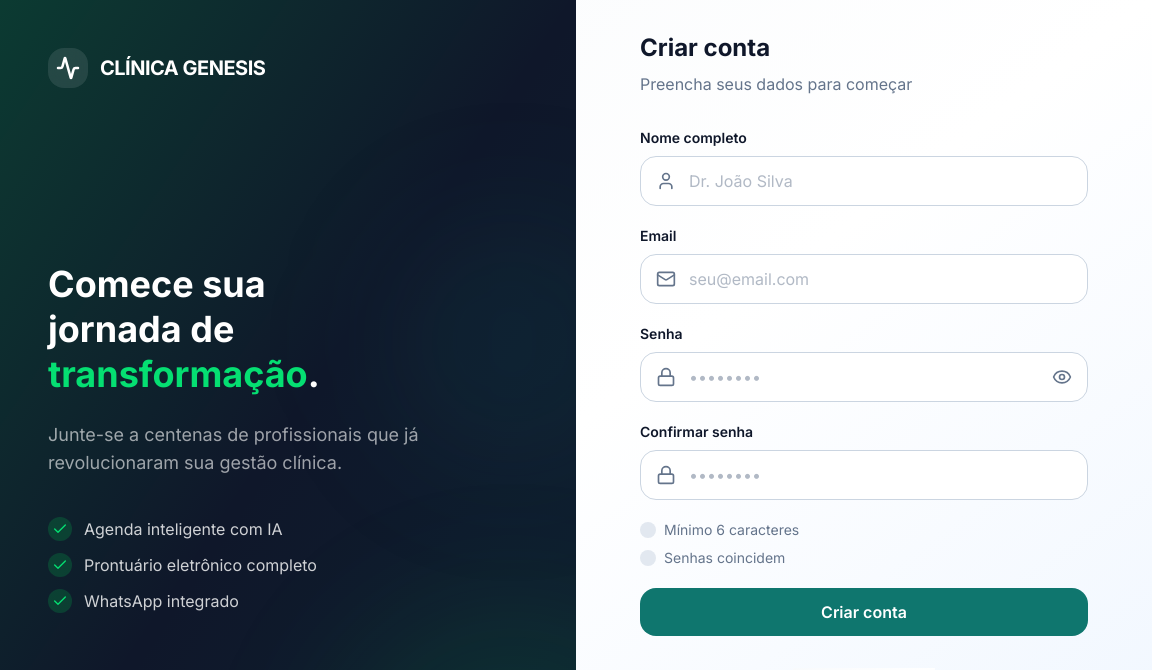
Test: Register › error handling › should display error on email already in use
The image size is (1152, 670).
Type "Test User" into the field labelled "Nome completo".
click(864, 181); type("Test User")  # box 640,156 -> 1088,206
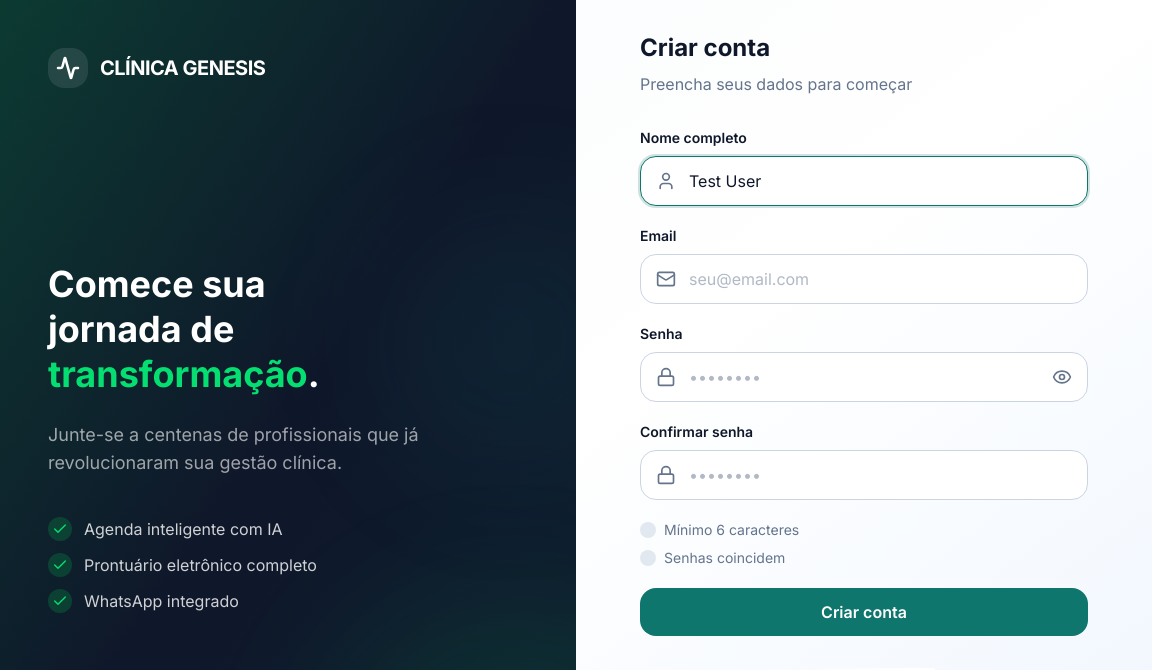
Type "existing@example.com" into the field labelled "Email".
click(864, 279); type("existing@example.com")  # box 640,254 -> 1088,304
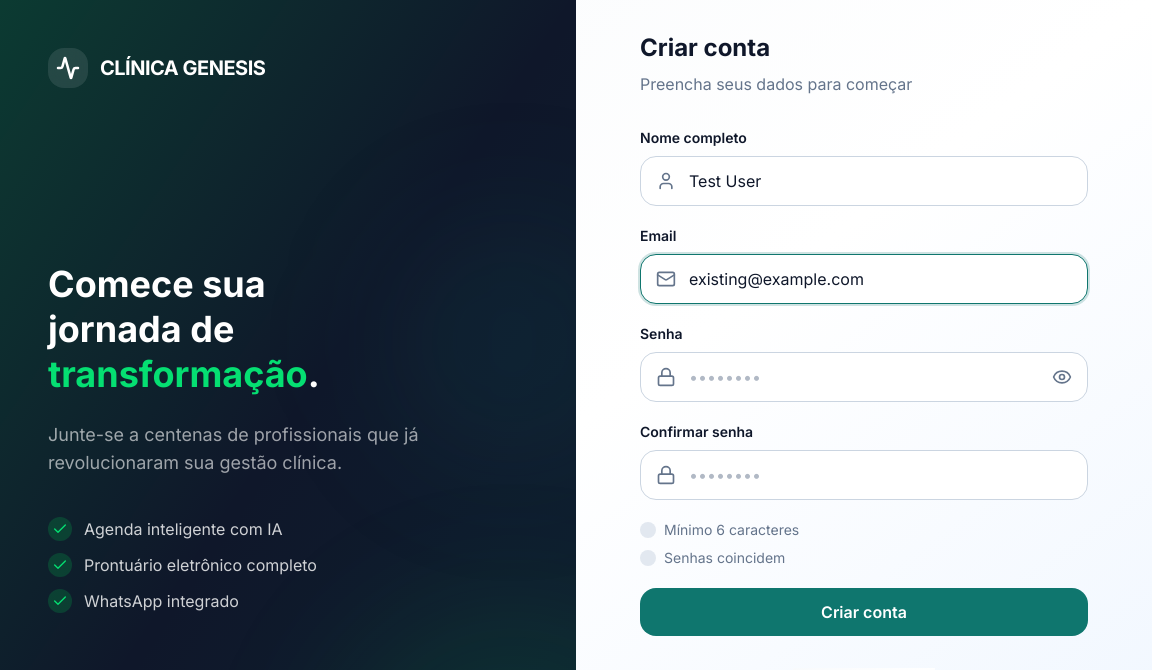
Type "password123" into the password field labelled "Senha".
click(864, 377); type("password123")  # box 640,352 -> 1088,402
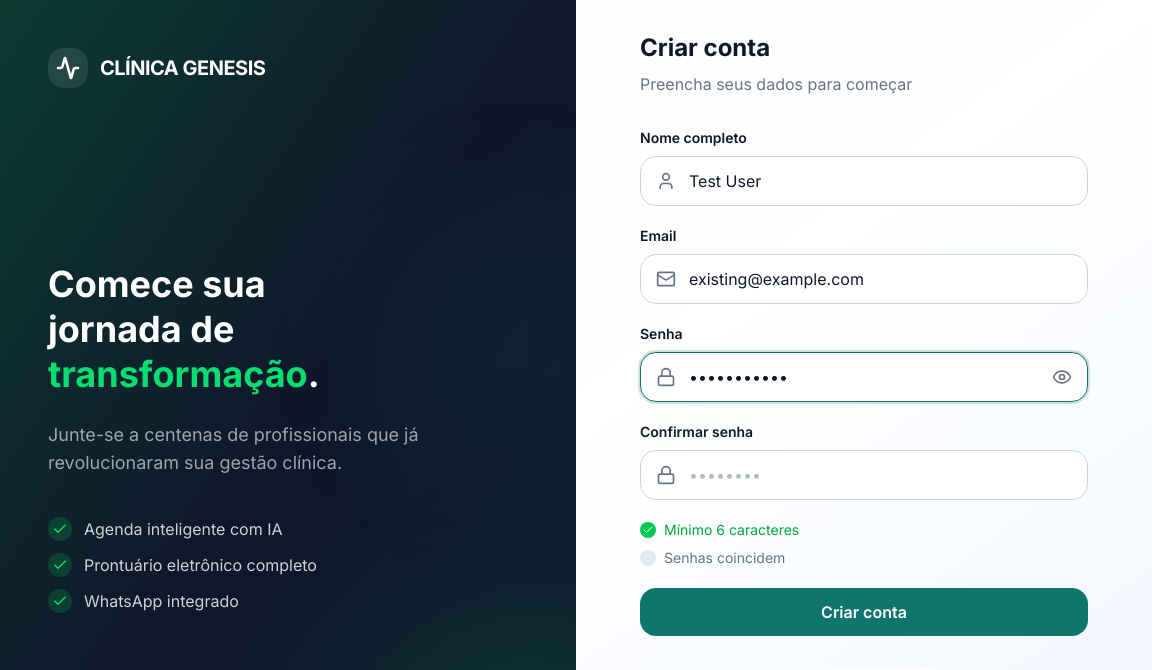
Type "password123" into the password field labelled "Confirmar senha".
click(864, 475); type("password123")  # box 640,450 -> 1088,500
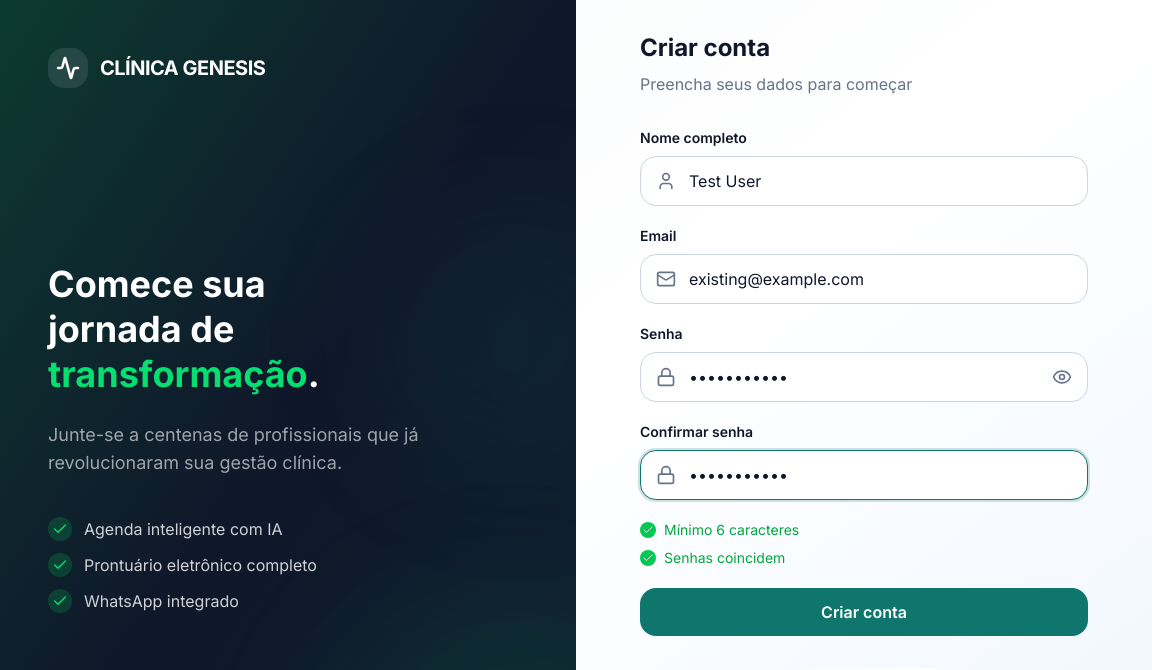
Click the button "Criar conta".
click(864, 612)  # box 640,588 -> 1088,636
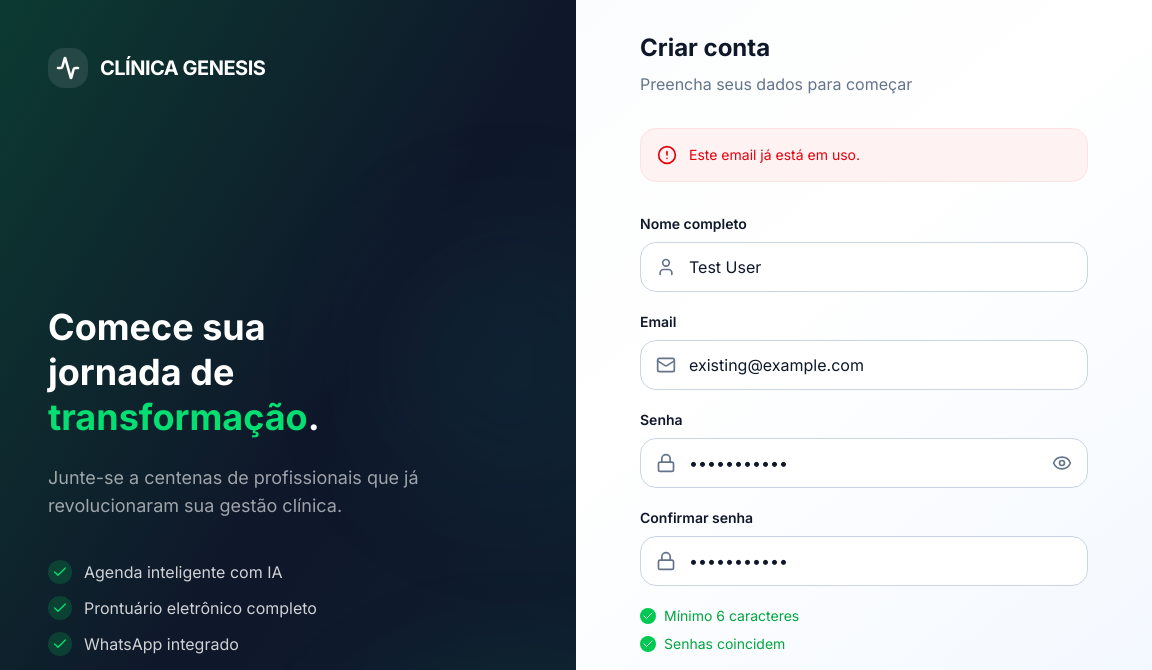
Expected: the text "Este email já está em uso." is shown, 689,145 -> 860,165
